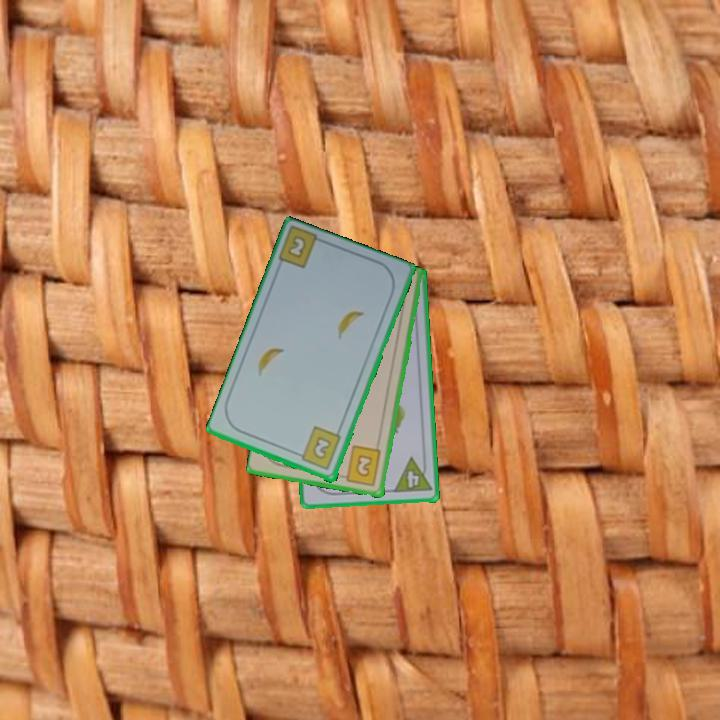2b: (293, 424, 344, 473), (337, 443, 384, 489), (284, 233, 309, 261)
4p: (390, 454, 434, 496)
